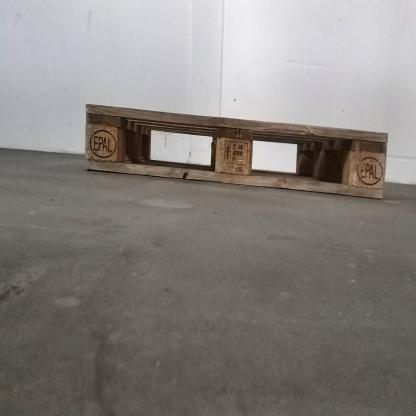BoxFace: (81, 100, 390, 208)
